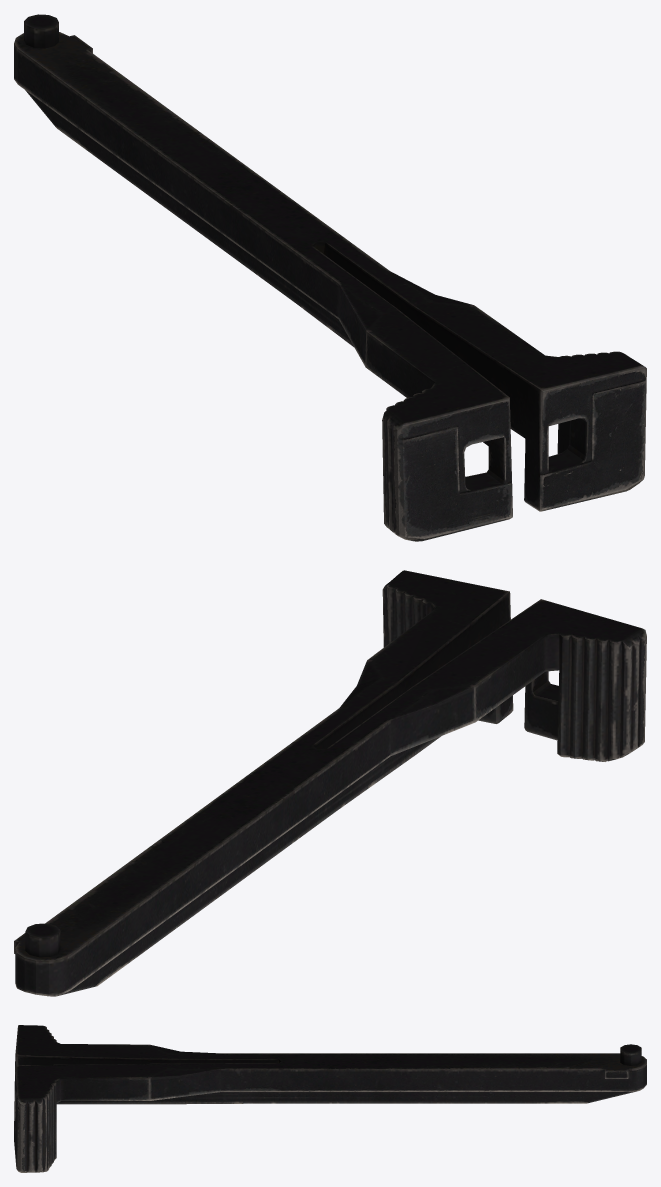
3 renders of one model, top to bottom at view 1: azimuth 30°, elevation 25°; view 2: azimuth 150°, elevation 25°; view 3: azimuth 270°, elevation 25°, orthographic. The views are drawn at different scales.
Visible parts, largest first — view 1: TW_5ba26383d4351e00334c93d9_PZ_Import; view 2: TW_5ba26383d4351e00334c93d9_PZ_Import; view 3: TW_5ba26383d4351e00334c93d9_PZ_Import.
Boxes of the visible parts, <box> form: TW_5ba26383d4351e00334c93d9_PZ_Import: <box>14,14,646,541</box>; TW_5ba26383d4351e00334c93d9_PZ_Import: <box>14,570,646,996</box>; TW_5ba26383d4351e00334c93d9_PZ_Import: <box>14,1025,646,1172</box>.
Size of the model in its own units: 0.0217 by 0.0745 by 0.0118.
Materials: 1 (1 with a texture image).
